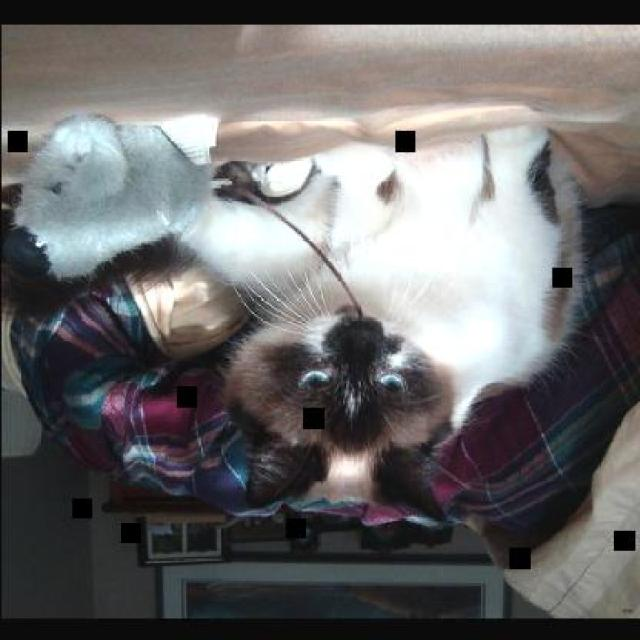unauthorized: (206, 122, 589, 516)
